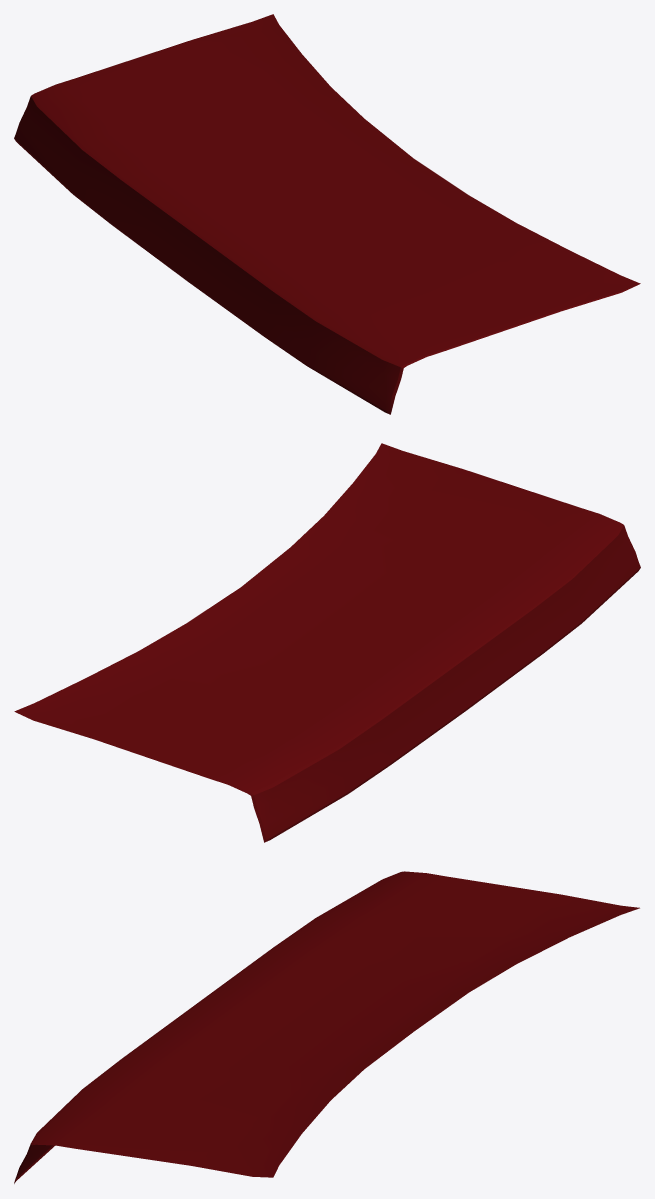
The model's file is Cajuela.obj.
The picture shows the model from 3 angles, top to bottom: view 1: azimuth 30°, elevation 25°; view 2: azimuth 150°, elevation 25°; view 3: azimuth 330°, elevation 25°; orthographic projection.
Parts seen in each view (by area): view 1: kiri86_Trunk_door_kiri86_Bodymat_0; view 2: kiri86_Trunk_door_kiri86_Bodymat_0; view 3: kiri86_Trunk_door_kiri86_Bodymat_0.
Boxes of the visible parts, box(x1,y1,x2,y2) form: kiri86_Trunk_door_kiri86_Bodymat_0: box(14, 14, 640, 414); kiri86_Trunk_door_kiri86_Bodymat_0: box(14, 443, 640, 842); kiri86_Trunk_door_kiri86_Bodymat_0: box(14, 871, 639, 1183).
Size of the model in its own units: 0.5109 by 0.1261 by 1.24.
